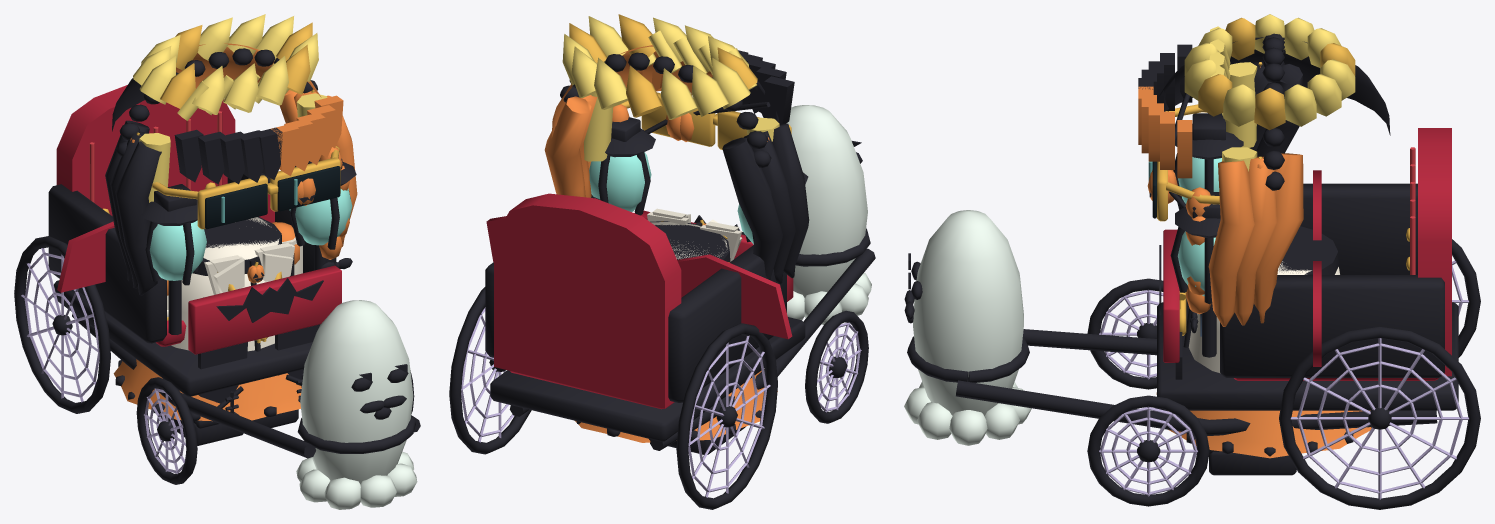
The model's file is festival-gear.glb.
3 views of the same model, side by side, from view 1: azimuth 30°, elevation 25°; view 2: azimuth 150°, elevation 25°; view 3: azimuth 270°, elevation 25° (orthographic). The views are drawn at different scales.
Parts seen in each view (by area): view 1: deco_ghost_carriage@body, hair_pumpkin@head, hair_flex@head, dress_pumpkin@body, glasses_flex@head, outfit_flex@body, boots_pumpkin_l@leg-left, boots_pumpkin_r@leg-right; view 2: deco_ghost_carriage@body, hair_pumpkin@head, hair_flex@head, dress_pumpkin@body, glasses_flex@head, outfit_flex@body; view 3: deco_ghost_carriage@body, hair_pumpkin@head, hair_flex@head, dress_pumpkin@body, boots_pumpkin_r@leg-right, glasses_flex@head, outfit_flex@body.
Part boxes in pixels (x1,y1,x2,y2): deco_ghost_carriage@body: (14, 85, 420, 509); hair_pumpkin@head: (105, 43, 357, 295); hair_flex@head: (133, 14, 327, 202); dress_pumpkin@body: (113, 216, 320, 421); glasses_flex@head: (152, 146, 340, 229); outfit_flex@body: (171, 217, 292, 402); boots_pumpkin_l@leg-left: (160, 415, 243, 445); boots_pumpkin_r@leg-right: (252, 409, 298, 427); deco_ghost_carriage@body: (449, 105, 875, 509); hair_pumpkin@head: (544, 45, 809, 283); hair_flex@head: (562, 14, 779, 161); dress_pumpkin@body: (575, 212, 777, 442); glasses_flex@head: (621, 92, 791, 149); outfit_flex@body: (651, 208, 739, 259); deco_ghost_carriage@body: (904, 113, 1480, 509); hair_pumpkin@head: (1138, 33, 1390, 333); hair_flex@head: (1184, 14, 1355, 171); dress_pumpkin@body: (1154, 226, 1371, 458); boots_pumpkin_r@leg-right: (1209, 450, 1296, 475); glasses_flex@head: (1148, 104, 1219, 221); outfit_flex@body: (1179, 261, 1339, 373).
Size of the model in its own units: 1.94 by 2.4 by 3.04.
